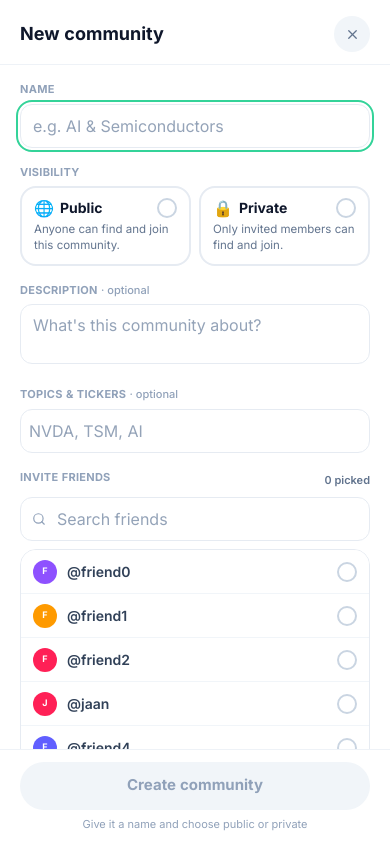
Test: friend picker › shows a search field for many friends, filters, and counts picks
The width and height of the screenshot is (390, 844).
Type "jaa" into the field labelled "Search friends".
click(195, 519); type("jaa")  # box 20,497 -> 370,541
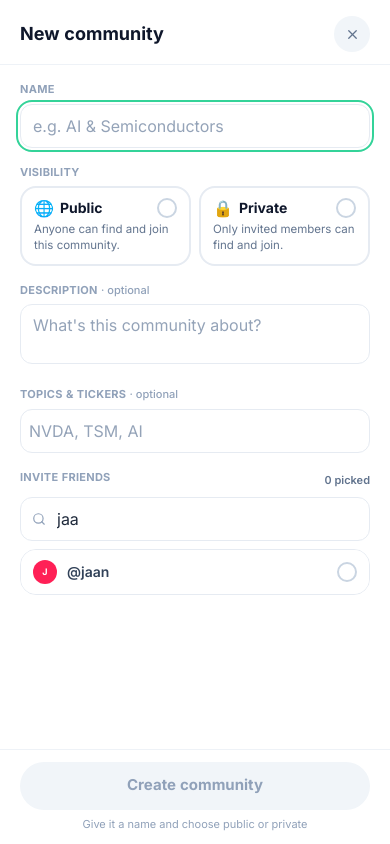
Check: the button "@friend0" is gone
Click the text "@jaan".
click(88, 572)  # box 67,563 -> 109,580
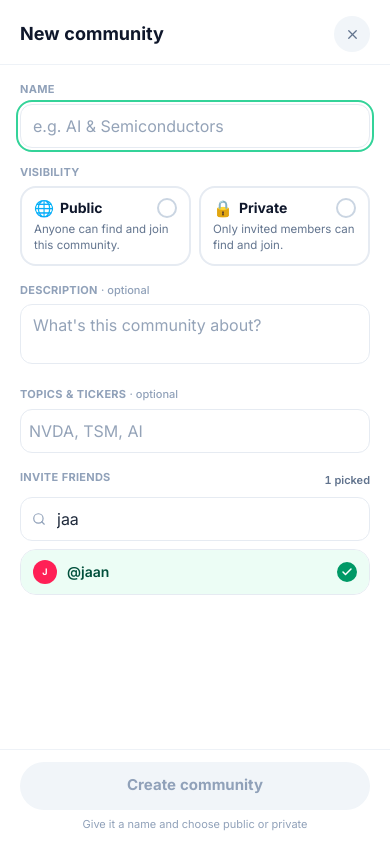
Check: the text "1 picked" is shown, box 324,472 -> 370,488
